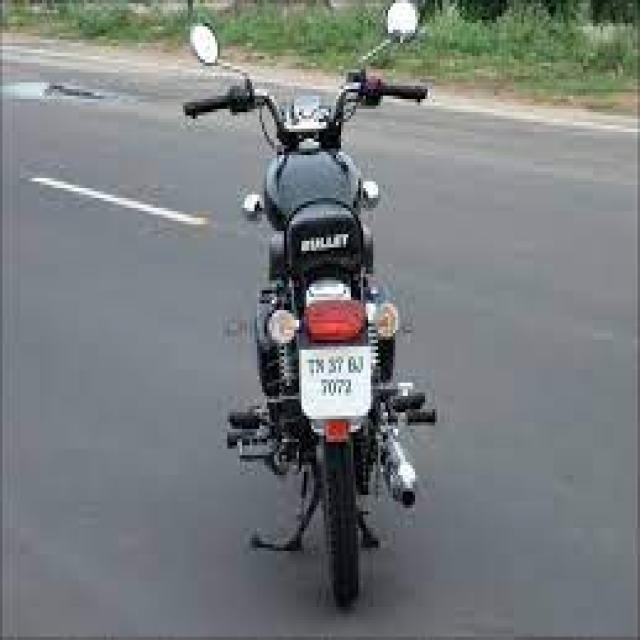number plate: (303, 349, 370, 403)
